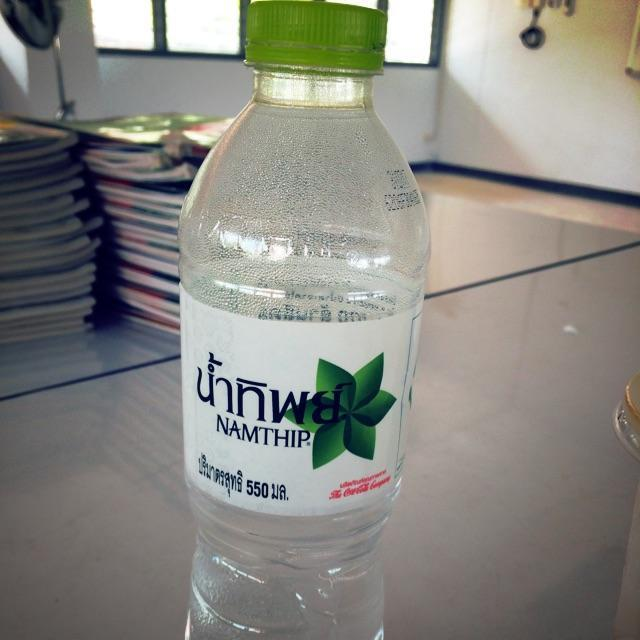bottle: (165, 0, 444, 640)
